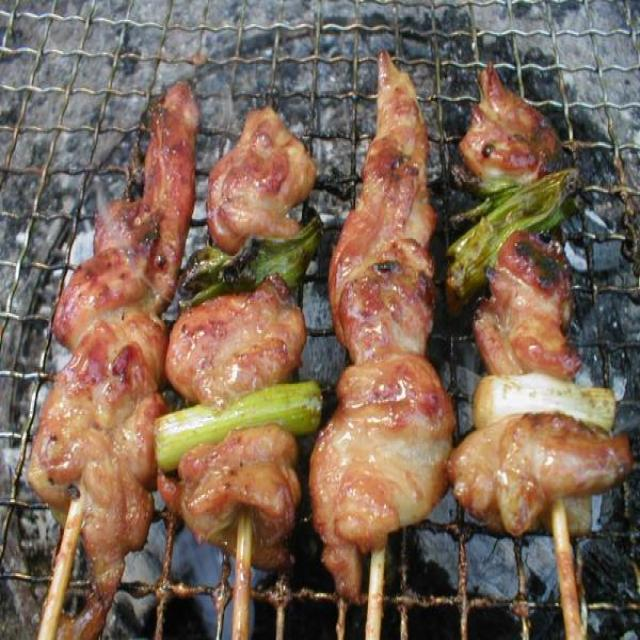烧串烤肉: (0, 35, 640, 640)
